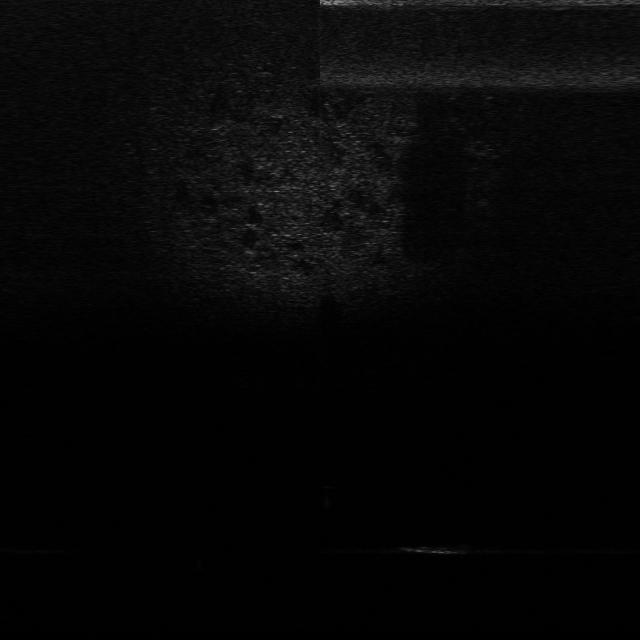metal bucket: (397, 532, 474, 560)
